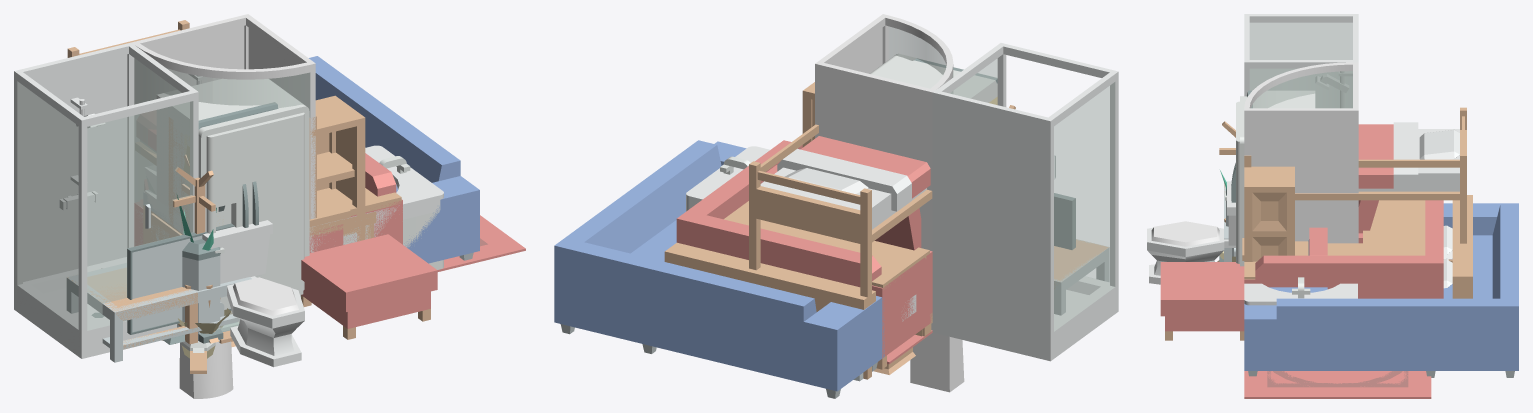
The model's file is kenney-furniture.glb.
3 views of the same model, side by side, from view 1: azimuth 30°, elevation 25°; view 2: azimuth 150°, elevation 25°; view 3: azimuth 270°, elevation 25° (orthographic). The views are drawn at different scales.
Visible parts, largest first — view 1: shower(Clone), doorRight (×3), doorLeft (×3), showerRound(Clone), loungeDesignSofaCorner(Clone), loungeSofaLong(Clone), toilet(Clone), washerDryerStacked(Clone), tableCoffeeGlass(Clone), bookcaseClosedWide(Clone), televisionModern(Clone), bathtub(Clone) (+17 smaller); view 2: shower(Clone), loungeDesignSofaCorner(Clone), showerRound(Clone), loungeSofaCorner(Clone), bedBunk(Clone), coverTop, bedDouble(Clone), deskCorner(Clone), bathroomSink(Clone), washerDryerStacked(Clone), loungeChairRelax(Clone), bathtub(Clone) (+8 smaller); view 3: loungeDesignSofaCorner(Clone), showerRound(Clone), shower(Clone), loungeSofaCorner(Clone), loungeSofaLong(Clone), bedBunk(Clone), bookcaseClosedWide(Clone), rugRectangle(Clone), deskCorner(Clone), coverTop, loungeSofaOttoman(Clone), toilet(Clone) (+12 smaller).
Part boxes in pixels (<box>): shower(Clone): <box>14,42,198,358</box>; doorRight (×3): <box>140,72,310,291</box>; doorLeft (×3): <box>87,59,249,330</box>; showerRound(Clone): <box>131,14,315,252</box>; loungeDesignSofaCorner(Clone): <box>309,56,479,263</box>; loungeSofaLong(Clone): <box>302,241,437,339</box>; toilet(Clone): <box>202,220,304,367</box>; washerDryerStacked(Clone): <box>156,78,278,226</box>; tableCoffeeGlass(Clone): <box>66,263,251,362</box>; bookcaseClosedWide(Clone): <box>168,95,365,241</box>; televisionModern(Clone): <box>127,223,238,344</box>; bathtub(Clone): <box>140,145,443,269</box>; shower(Clone): <box>932,43,1118,361</box>; loungeDesignSofaCorner(Clone): <box>554,140,884,398</box>; showerRound(Clone): <box>815,14,953,330</box>; loungeSofaCorner(Clone): <box>676,140,928,369</box>; bedBunk(Clone): <box>749,124,932,379</box>; coverTop: <box>777,136,930,211</box>; bedDouble(Clone): <box>664,242,875,381</box>; deskCorner(Clone): <box>724,201,929,336</box>; bathroomSink(Clone): <box>910,332,964,392</box>; washerDryerStacked(Clone): <box>889,58,997,99</box>; loungeChairRelax(Clone): <box>875,208,932,334</box>; bathtub(Clone): <box>686,146,769,211</box>; loungeDesignSofaCorner(Clone): <box>1244,203,1518,377</box>; showerRound(Clone): <box>1244,62,1358,243</box>; shower(Clone): <box>1244,14,1358,108</box>; loungeSofaCorner(Clone): <box>1244,200,1443,298</box>; loungeSofaLong(Clone): <box>1160,262,1244,340</box>; bedBunk(Clone): <box>1244,107,1466,262</box>; bookcaseClosedWide(Clone): <box>1244,166,1294,261</box>; rugRectangle(Clone): <box>1244,371,1431,398</box>; deskCorner(Clone): <box>1244,200,1425,279</box>; coverTop: <box>1358,122,1418,189</box>; loungeSofaOttoman(Clone): <box>1160,262,1244,340</box>; toilet(Clone): <box>1147,181,1235,284</box>.
Bounding box in the file's own units: 2.13 × 1.49 × 1.83.
